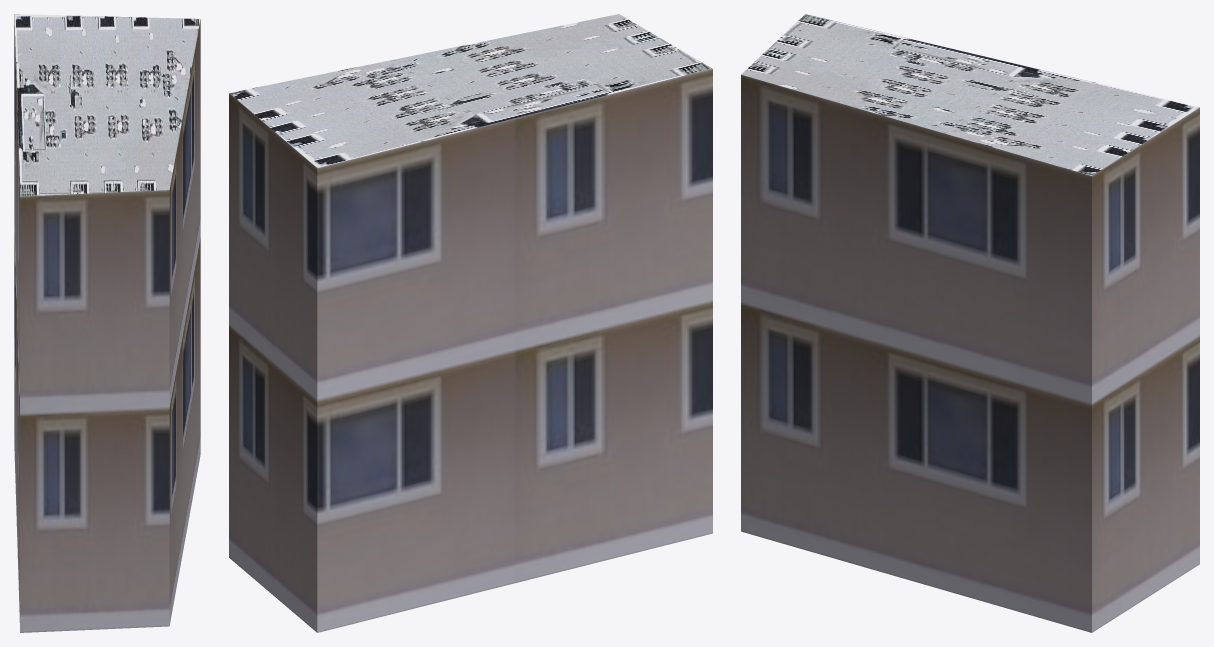
Rendered from ResTex__766.fbx.
The picture shows the model from 3 angles, left to right: view 1: azimuth 30°, elevation 25°; view 2: azimuth 150°, elevation 25°; view 3: azimuth 270°, elevation 25°; orthographic projection. The views are drawn at different scales.
Visible parts, largest first — view 1: CityEngineMaterial_21_m, CityEngineMaterial_m; view 2: CityEngineMaterial_21_m, CityEngineMaterial_m; view 3: CityEngineMaterial_21_m, CityEngineMaterial_m.
Boxes of the visible parts, left/top/right/bottom form: CityEngineMaterial_21_m: left=14, top=15, right=200, bottom=632; CityEngineMaterial_m: left=14, top=14, right=200, bottom=196; CityEngineMaterial_21_m: left=229, top=69, right=712, bottom=632; CityEngineMaterial_m: left=229, top=14, right=712, bottom=167; CityEngineMaterial_21_m: left=741, top=74, right=1199, bottom=632; CityEngineMaterial_m: left=741, top=14, right=1199, bottom=175.
Size of the model in its own units: 4.56 by 6 by 5.46.
Materials: 2 (2 with a texture image).
